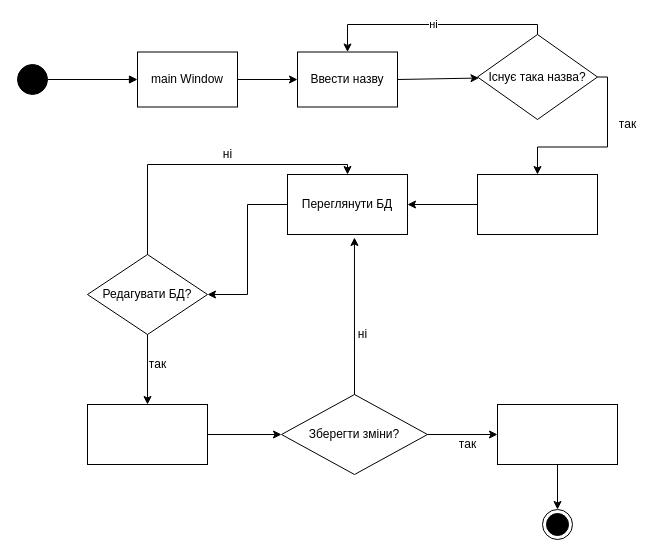
This 665x557 diagram has some shape labels left out. The centre of each missing label's shape, as x and y in pixels:
"Завантажити БД" belongs at point (537, 204).
"Збереження БД" belongs at point (557, 434).
"Редагування БД" belongs at point (147, 434).
